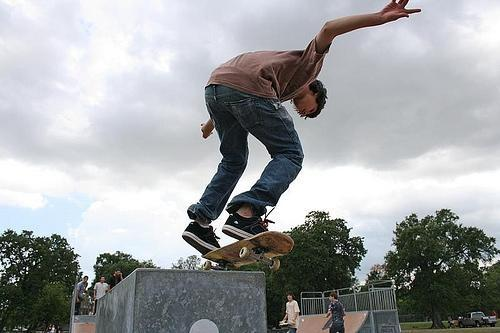truck: (456, 310, 496, 328)
